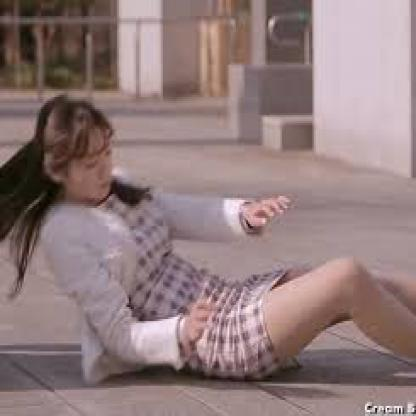Fall_Down: (32, 92, 414, 388)
